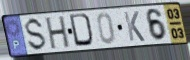0: (96, 11, 117, 47)
6: (145, 7, 168, 43)
D: (68, 13, 97, 49)
H: (45, 15, 71, 51)
K: (123, 10, 147, 43)
S: (25, 16, 48, 53)
